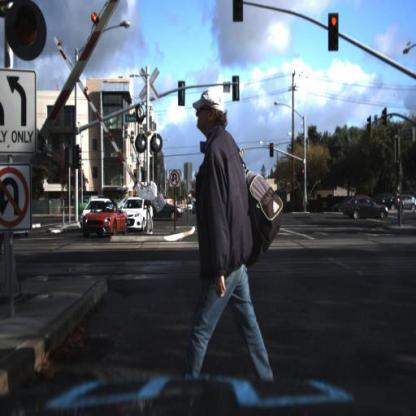car: (80, 202, 129, 236), (344, 194, 391, 223), (144, 199, 184, 226), (363, 192, 406, 215), (75, 198, 103, 232), (329, 196, 355, 212), (332, 196, 354, 214)
pedestrian: (188, 90, 285, 416), (188, 81, 263, 414)
trafficLight: (11, 2, 45, 56), (233, 2, 245, 25)
trafficLight-Red: (328, 14, 340, 52), (269, 140, 277, 161), (301, 165, 307, 186), (271, 142, 275, 158)
